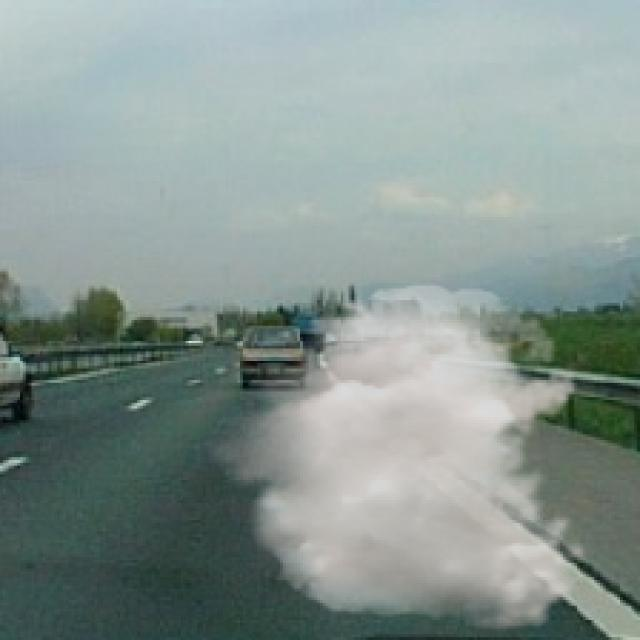smoke: (200, 283, 589, 631)
